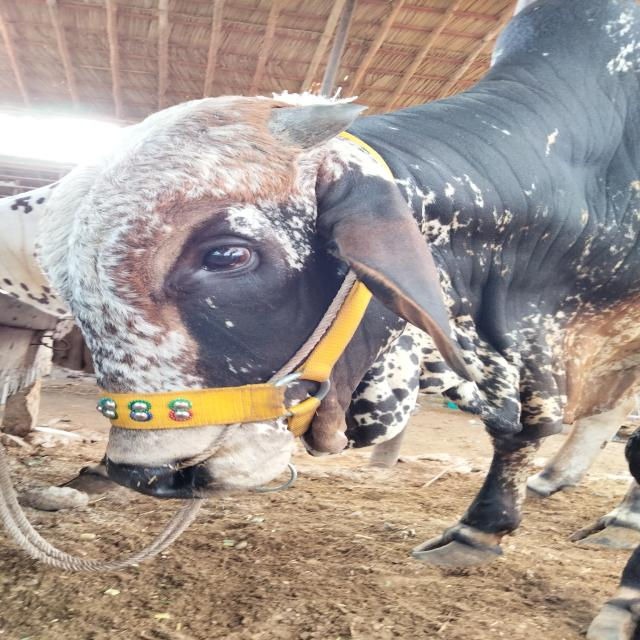muzzles: (90, 442, 250, 504)
